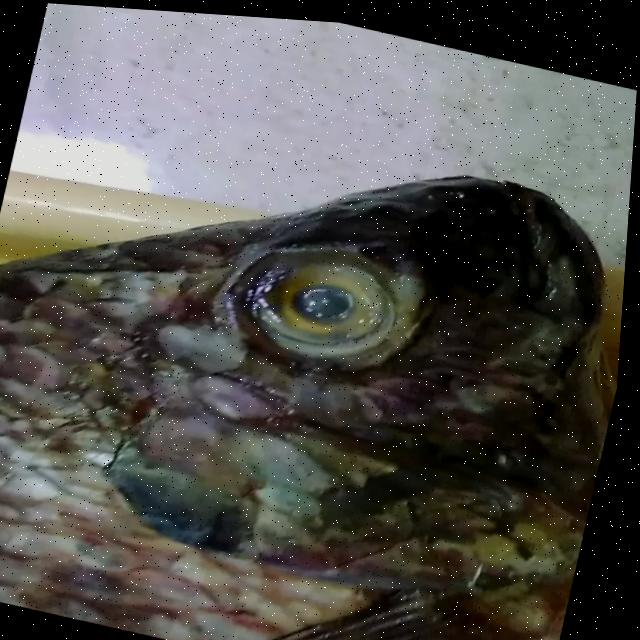Non-Fresh: (211, 209, 428, 387)
